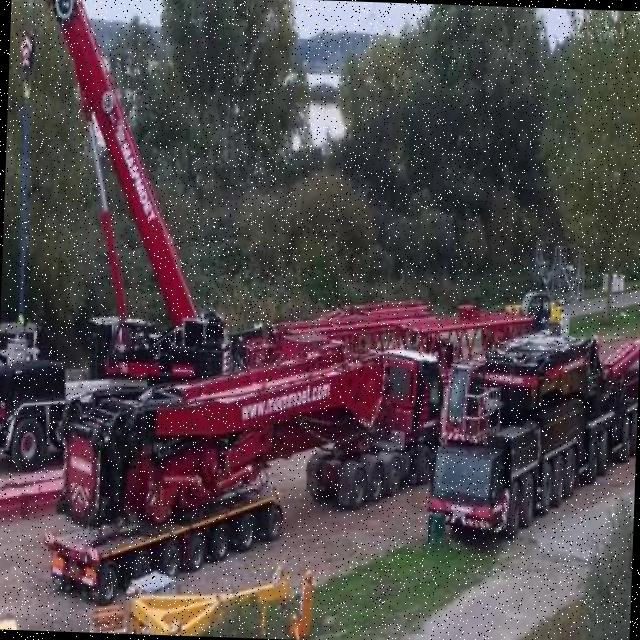Mobile Crane: (0, 0, 240, 456), (428, 324, 640, 546)
